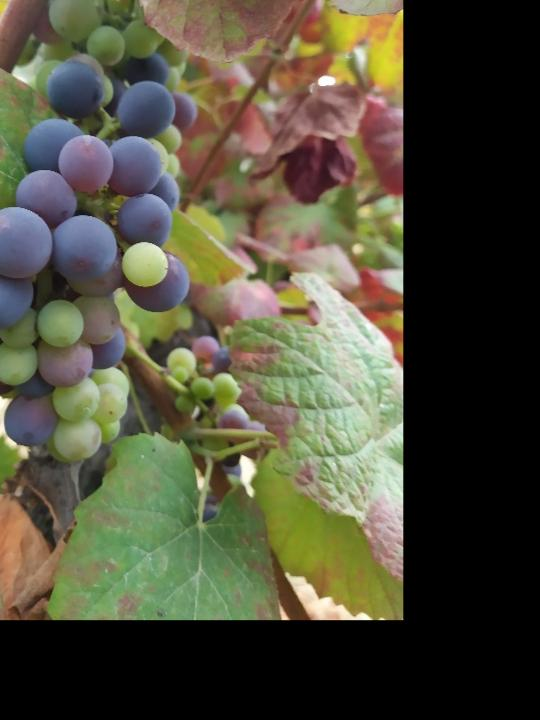grape: (0, 52, 194, 466)
